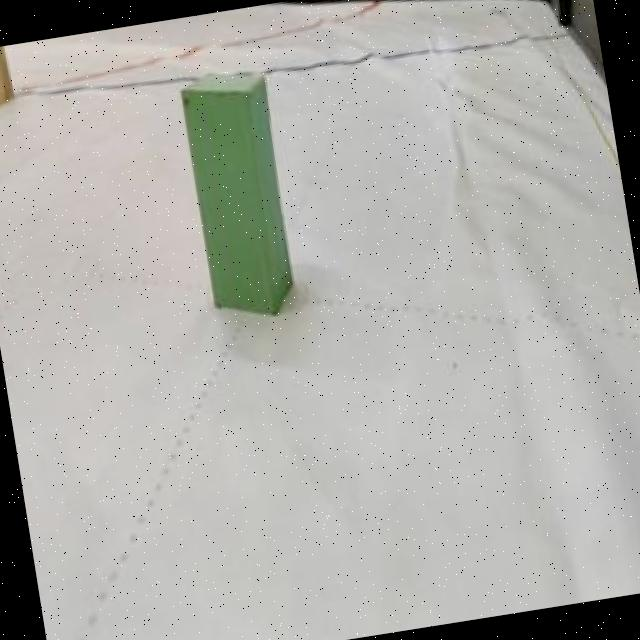greenbox: (172, 61, 304, 326)
